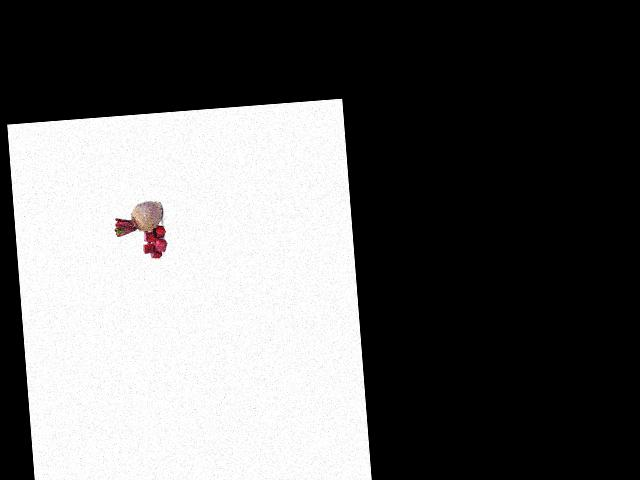beet: (113, 200, 164, 237)
